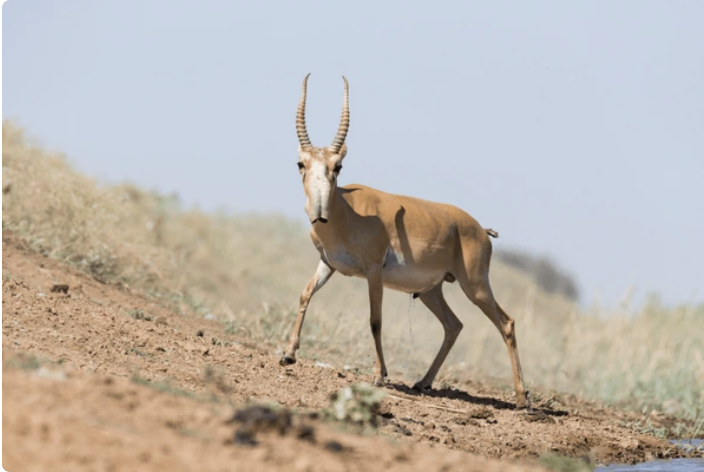saiga: (280, 60, 531, 402)
